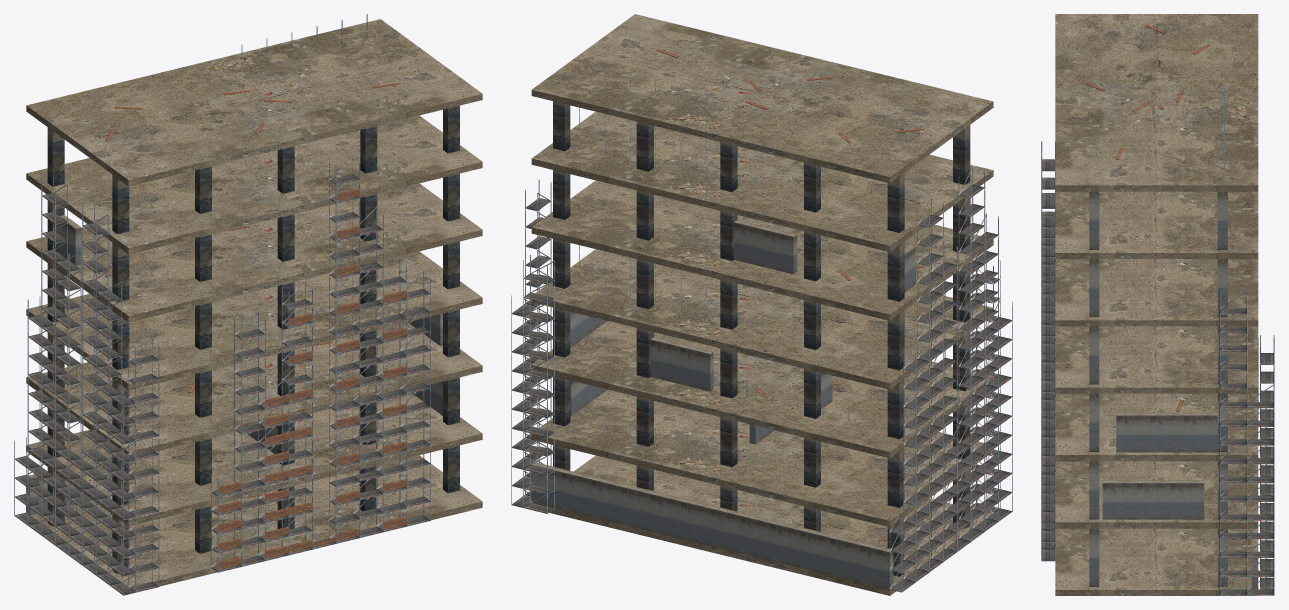
The model's file is Blender_LowPolyConstructionField.fbx.
The picture shows the model from 3 angles, left to right: view 1: azimuth 30°, elevation 25°; view 2: azimuth 150°, elevation 25°; view 3: azimuth 270°, elevation 25°; orthographic projection. The views are drawn at different scales.
Visible parts, largest first — view 1: ConcreteBase, IronPillar02.004, IronPillar02.007, IronPillar02.006, ConcretePillar.010, IronPillar02.011, IronPillar02.003, ConcretePillar.008, IronFlorrWithPAndWood.004, IronPillar02, IronPillar02.013, IronPillar02.015 (+17 smaller); view 2: ConcreteBase, ConcreteWall, IronPillar02.004, IronPillar02.007, ConcretePillar.011, ConcretePillar.012, ConcretePillar.004, ConcretePillar.006, ConcretePillar.009, IronPillar02.006, IronPillar02.003, IronPillar02.016 (+16 smaller); view 3: ConcreteBase, IronPillar02.018, ConcreteWall.002, ConcreteWall.003, IronPillar02.017, IronPillar02.015, IronPillar02.016, IronPillar02.011, IronPillar02.014, IronFlorrWithPAndWood.006, ConcretePillar.005, ConcretePillar.003 (+13 smaller).
Boxes of the visible parts, <box> form: ConcreteBase: <box>26,19,482,586</box>; IronPillar02.004: <box>82,204,108,575</box>; IronPillar02.007: <box>41,174,67,545</box>; IronPillar02.006: <box>55,241,81,555</box>; ConcretePillar.010: <box>112,105,459,234</box>; IronPillar02.011: <box>352,206,383,537</box>; IronPillar02.003: <box>96,271,122,585</box>; ConcretePillar.008: <box>112,173,459,301</box>; IronFlorrWithPAndWood.004: <box>329,180,360,543</box>; IronPillar02: <box>128,337,159,592</box>; IronPillar02.013: <box>234,311,265,566</box>; IronPillar02.015: <box>399,270,430,526</box>; ConcreteBase: <box>531,14,993,595</box>; ConcreteWall: <box>531,462,893,589</box>; IronPillar02.004: <box>958,166,985,541</box>; IronPillar02.007: <box>917,196,943,572</box>; ConcretePillar.011: <box>553,239,904,370</box>; ConcretePillar.012: <box>553,101,904,232</box>; ConcretePillar.004: <box>553,377,904,507</box>; ConcretePillar.006: <box>553,307,904,439</box>; ConcretePillar.009: <box>553,170,904,301</box>; IronPillar02.006: <box>931,244,957,562</box>; IronPillar02.003: <box>972,213,998,531</box>; IronPillar02.016: <box>523,255,554,513</box>; ConcreteBase: <box>1055,14,1258,595</box>; IronPillar02.018: <box>1219,290,1247,595</box>; ConcreteWall.002: <box>1116,412,1217,452</box>; ConcreteWall.003: <box>1102,480,1204,519</box>; IronPillar02.017: <box>1246,384,1274,595</box>; IronPillar02.015: <box>1041,307,1055,561</box>; IronPillar02.016: <box>1260,335,1274,589</box>; IronPillar02.011: <box>1041,210,1055,312</box>; IronPillar02.014: <box>1041,288,1055,530</box>; IronFlorrWithPAndWood.006: <box>1041,307,1055,549</box>; ConcretePillar.005: <box>1089,393,1099,452</box>; ConcretePillar.003: <box>1089,461,1099,519</box>.
Size of the model in its own units: 6414 by 7100 by 3447.
